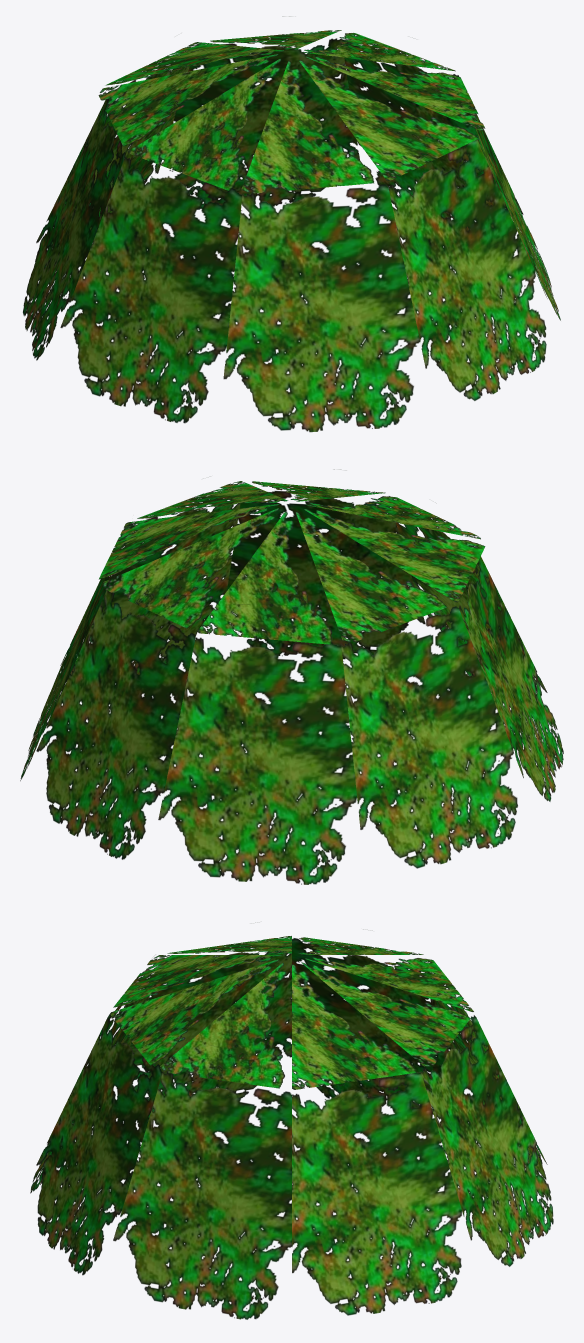
The model's file is bush1.glb.
3 renders of one model, top to bottom at view 1: azimuth 30°, elevation 25°; view 2: azimuth 150°, elevation 25°; view 3: azimuth 270°, elevation 25°, orthographic. The views are drawn at different scales.
Visible parts, largest first — view 1: tree2; view 2: tree2; view 3: tree2.
Boxes of the visible parts, bbox=[...] form: tree2: bbox=[23, 30, 560, 432]; tree2: bbox=[20, 469, 563, 884]; tree2: bbox=[30, 936, 553, 1319].
Size of the model in its own units: 1.1 by 0.5592 by 1.1.
1 material, 1 textured.
